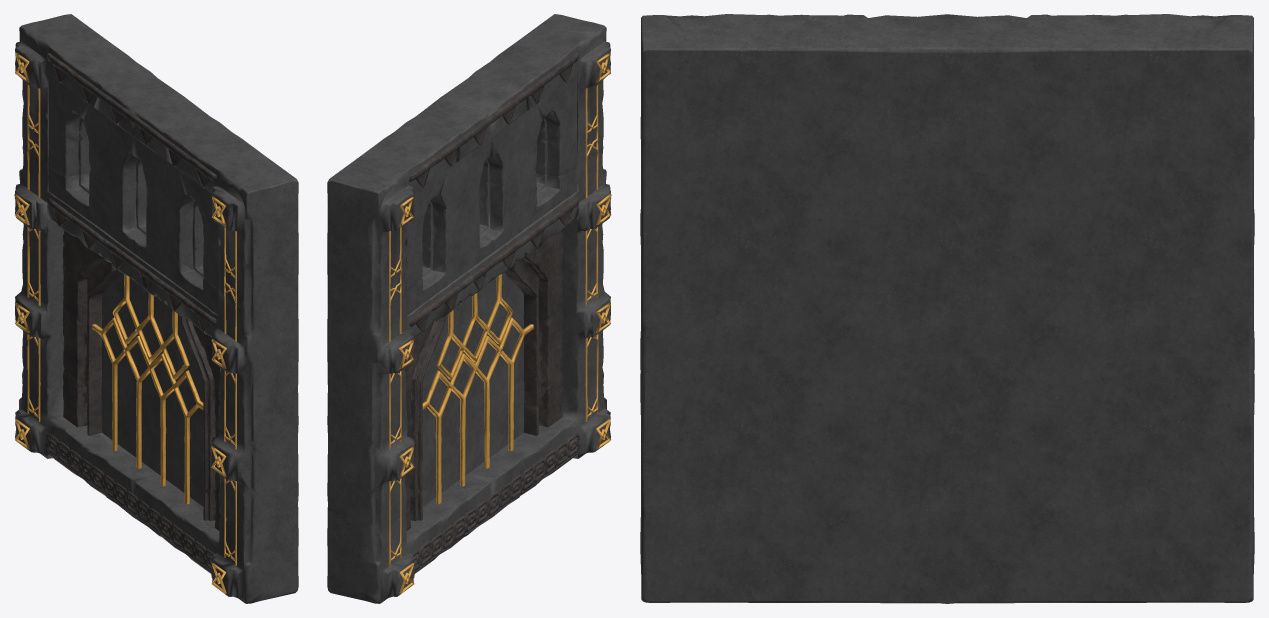
The model's file is SM_BuildingModule1.fbx.
The picture shows the model from 3 angles, left to right: view 1: azimuth 30°, elevation 25°; view 2: azimuth 150°, elevation 25°; view 3: azimuth 270°, elevation 25°; orthographic projection. The views are drawn at different scales.
Visible parts, largest first — view 1: SM_BuildingModule1_LOD0; view 2: SM_BuildingModule1_LOD0; view 3: SM_BuildingModule1_LOD0.
Boxes of the visible parts, bbox=[...] form: SM_BuildingModule1_LOD0: bbox=[14, 14, 298, 603]; SM_BuildingModule1_LOD0: bbox=[327, 14, 611, 603]; SM_BuildingModule1_LOD0: bbox=[640, 14, 1254, 603].
Size of the model in its own units: 100 by 602 by 601.
3 materials, 3 textured.
